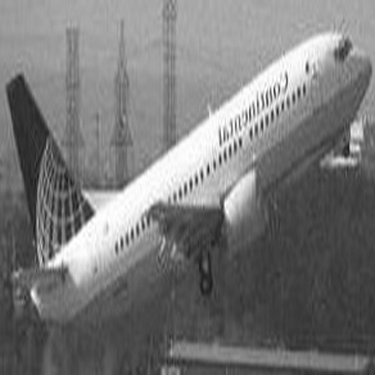airplane: (4, 17, 366, 330)
